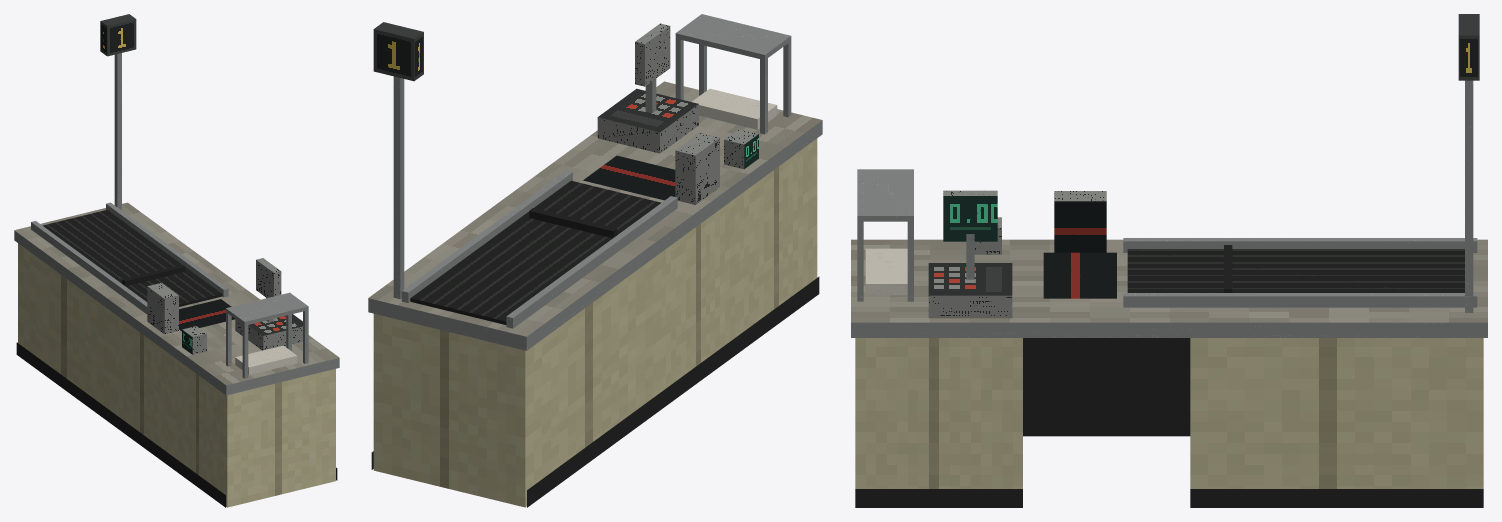
File: checkout_counter.glb
3 views of the same model, side by side, from view 1: azimuth 30°, elevation 25°; view 2: azimuth 150°, elevation 25°; view 3: azimuth 270°, elevation 25° (orthographic). The views are drawn at different scales.
Visible parts, largest first — view 1: CheckoutCounter; view 2: CheckoutCounter; view 3: CheckoutCounter.
Boxes of the visible parts, bbox=[...] form: CheckoutCounter: bbox=[14, 14, 339, 507]; CheckoutCounter: bbox=[368, 14, 822, 507]; CheckoutCounter: bbox=[851, 14, 1487, 507].
Size of what is drawn, in the model's own units: 0.94 by 2.49 by 3.04.
Materials: 1 (1 with a texture image).
